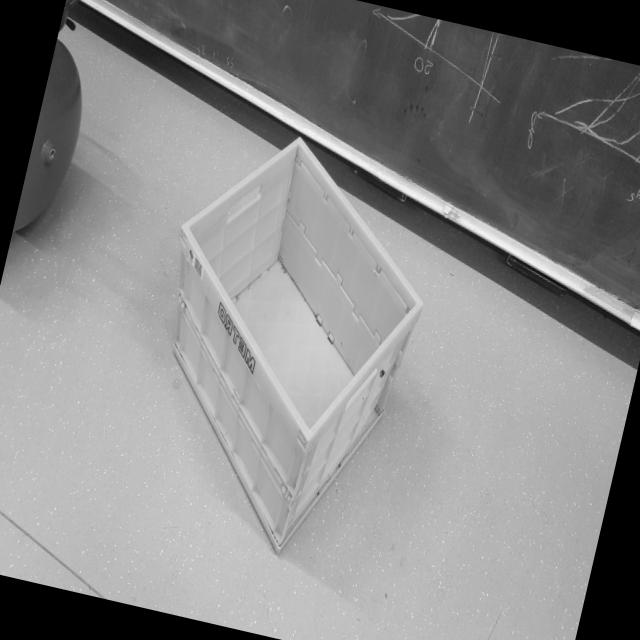box: (109, 114, 466, 588)
